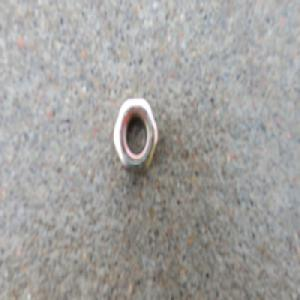Nut: (110, 95, 158, 177)
